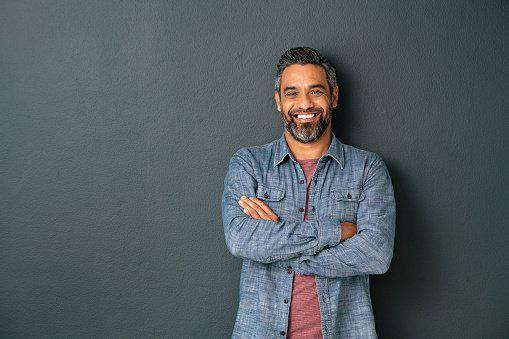Sober: (282, 69, 330, 138)
